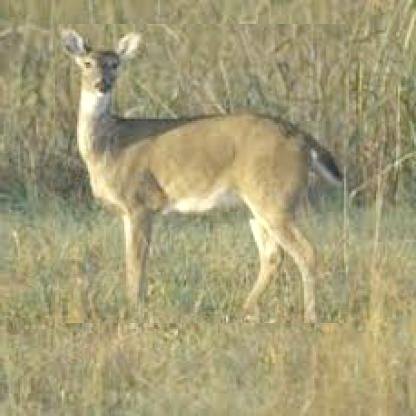Deer: (55, 24, 349, 323)
